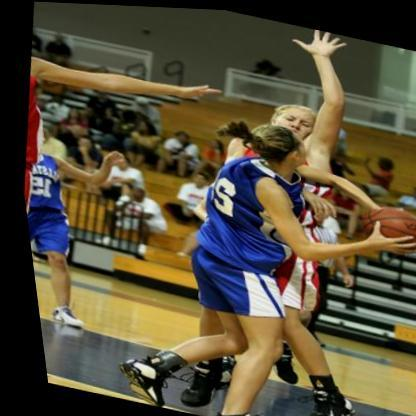basketball: (349, 198, 416, 253)
